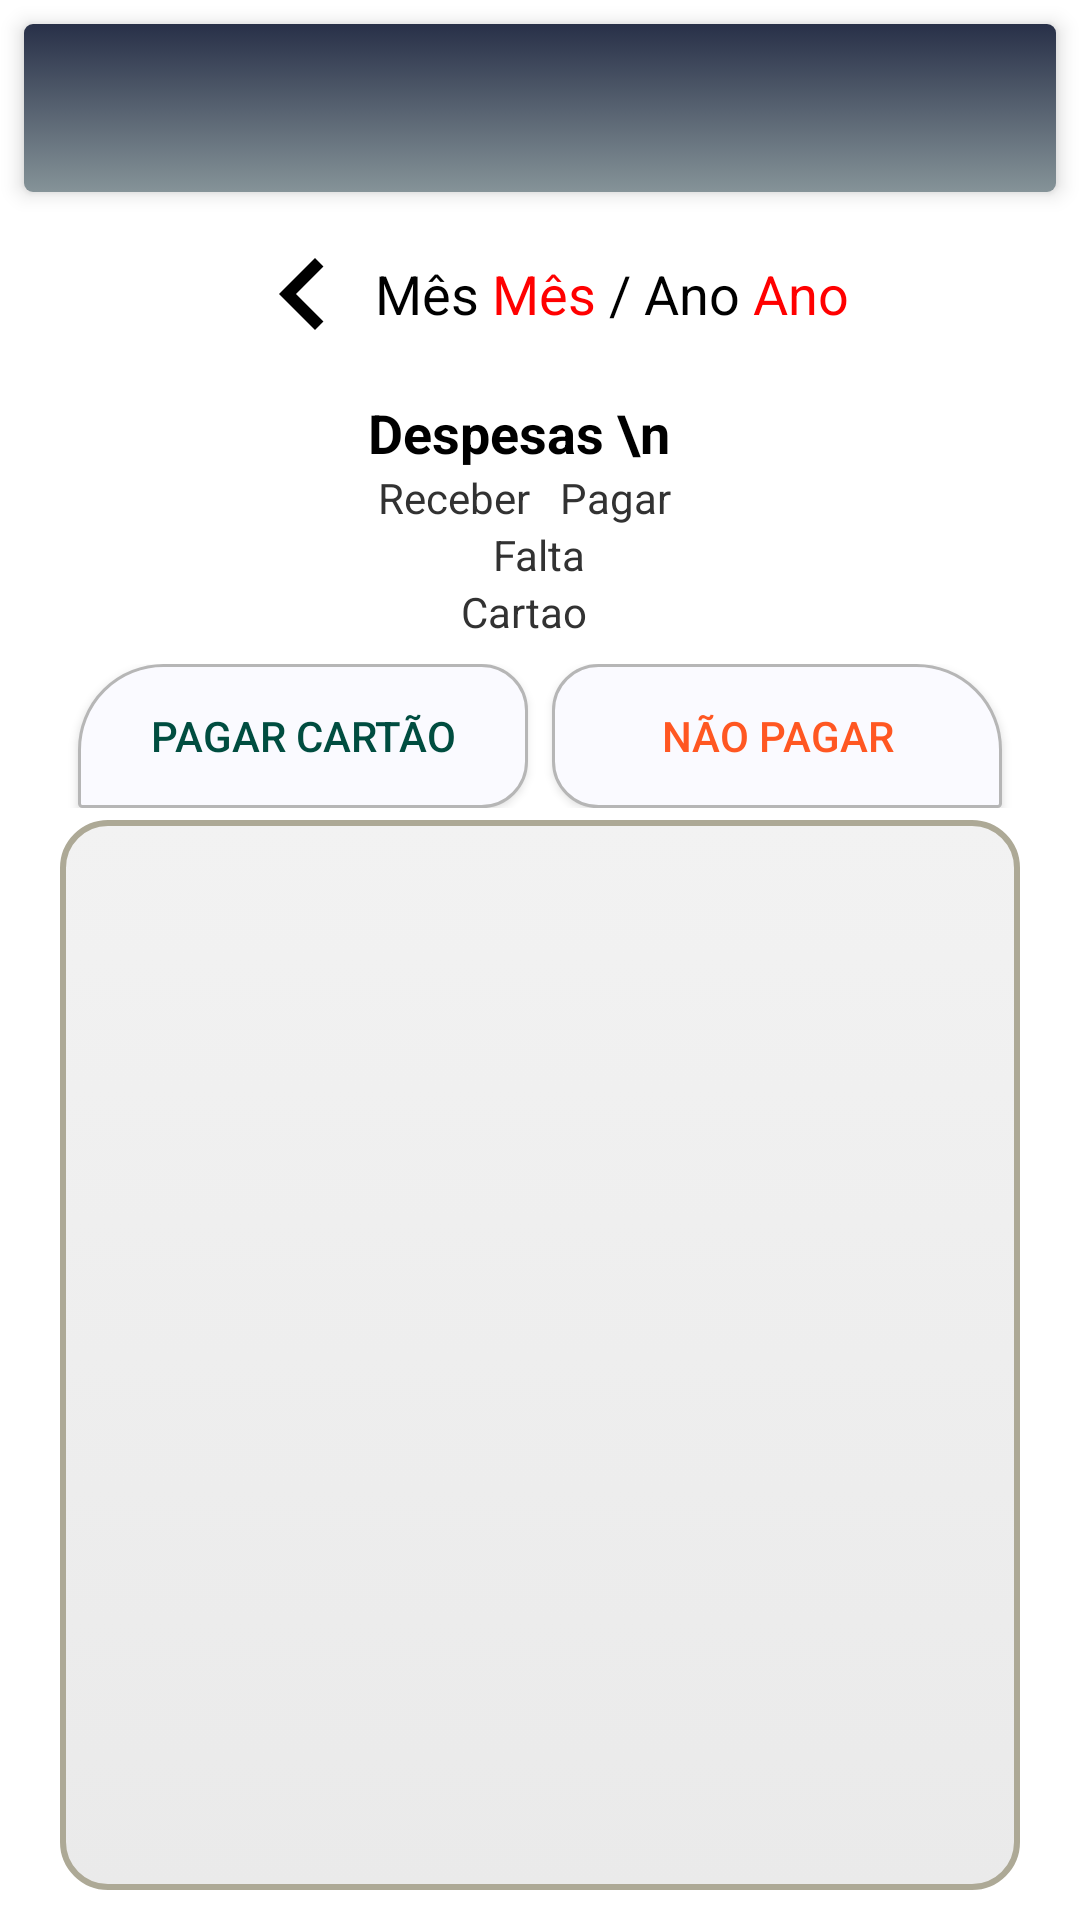

Point at icon controls on the screen. Image size 1080px x 1920px, points as point (x, y).
voltarblack: point (301, 294)
